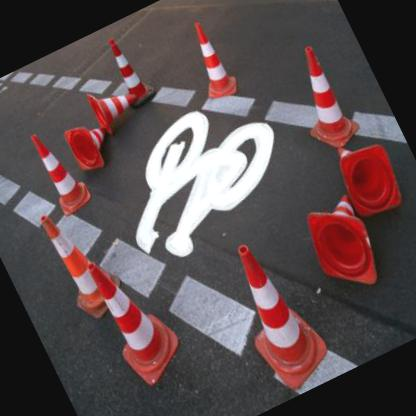cone: (209, 228, 343, 402), (80, 240, 194, 393), (36, 200, 130, 322), (274, 37, 364, 155), (178, 15, 242, 101), (100, 30, 158, 106)
